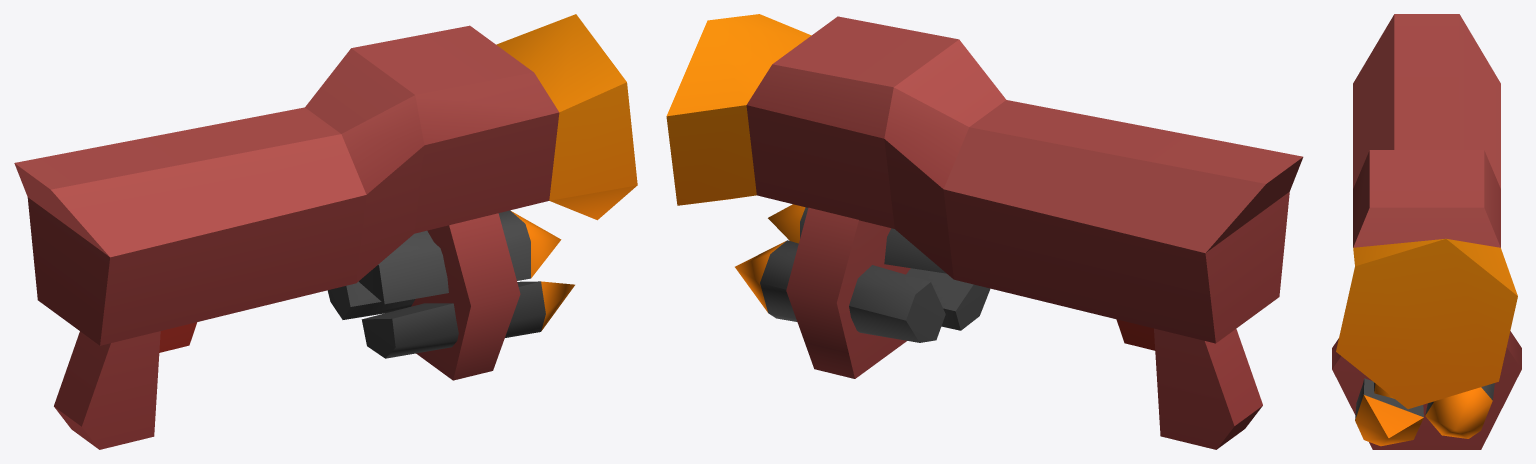
The model's file is Grenade.fbx.
3 renders of one model, left to right at view 1: azimuth 30°, elevation 25°; view 2: azimuth 150°, elevation 25°; view 3: azimuth 270°, elevation 25°, orthographic. The views are drawn at different scales.
Visible parts, largest first — view 1: Weapon5; view 2: Weapon5; view 3: Weapon5.
Part boxes in pixels (box(x1,y1,x2,y2)): Weapon5: box(14, 14, 637, 449); Weapon5: box(666, 14, 1303, 449); Weapon5: box(1332, 14, 1521, 449).
Size of the model in its own units: 5.84 by 2.99 by 1.94.
